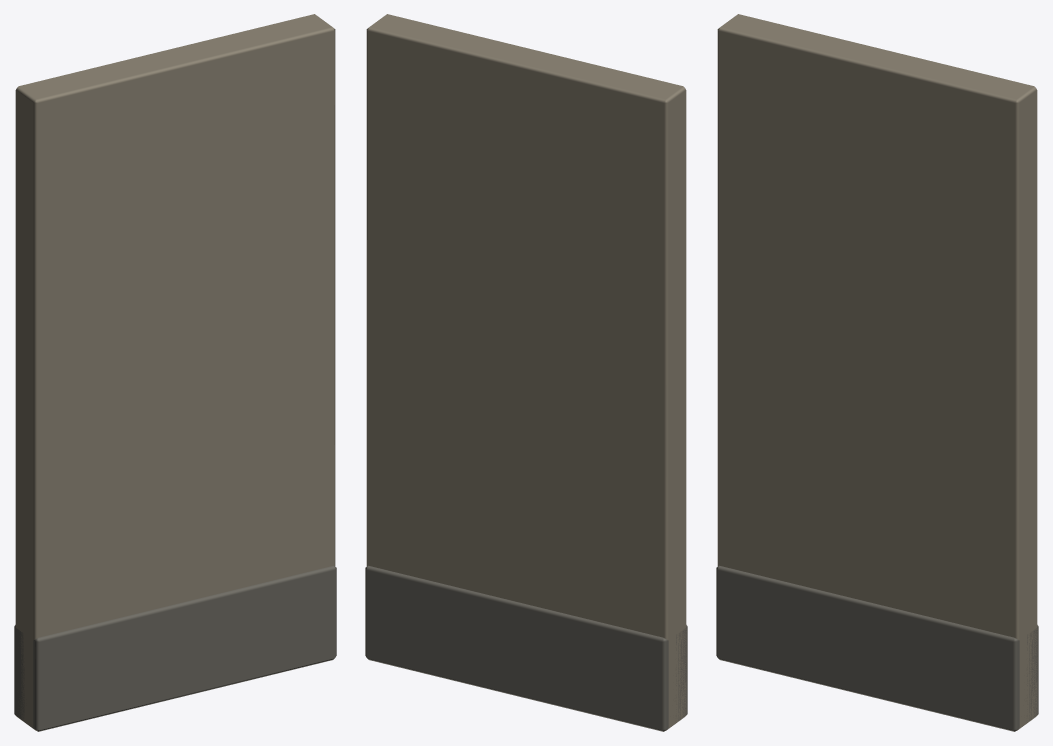
File: village-wall-plaster.17bfd858.glb
3 renders of one model, left to right at view 1: azimuth 30°, elevation 25°; view 2: azimuth 150°, elevation 25°; view 3: azimuth 330°, elevation 25°, orthographic.
Visible parts, largest first — view 1: body; view 2: body; view 3: body.
Part boxes in pixels (left/top/right/bottom): body: left=14, top=14, right=336, bottom=731; body: left=365, top=14, right=687, bottom=731; body: left=716, top=14, right=1038, bottom=731.
Size of the model in its own units: 1 by 2 by 0.14.
